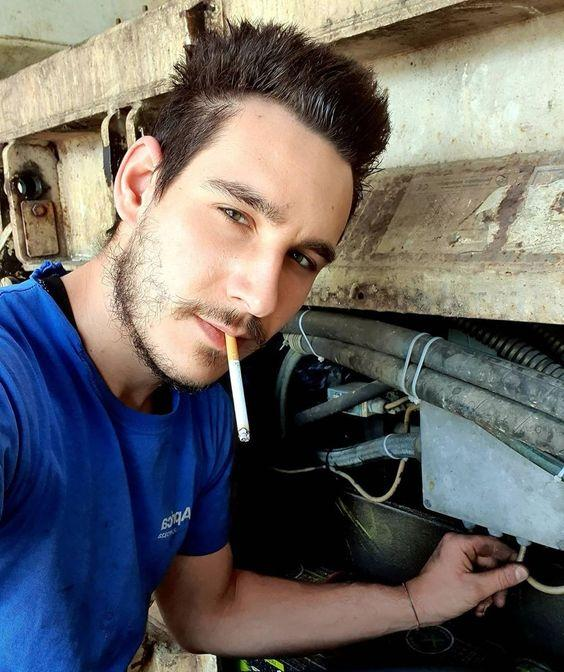cigarette: (224, 333, 250, 443)
